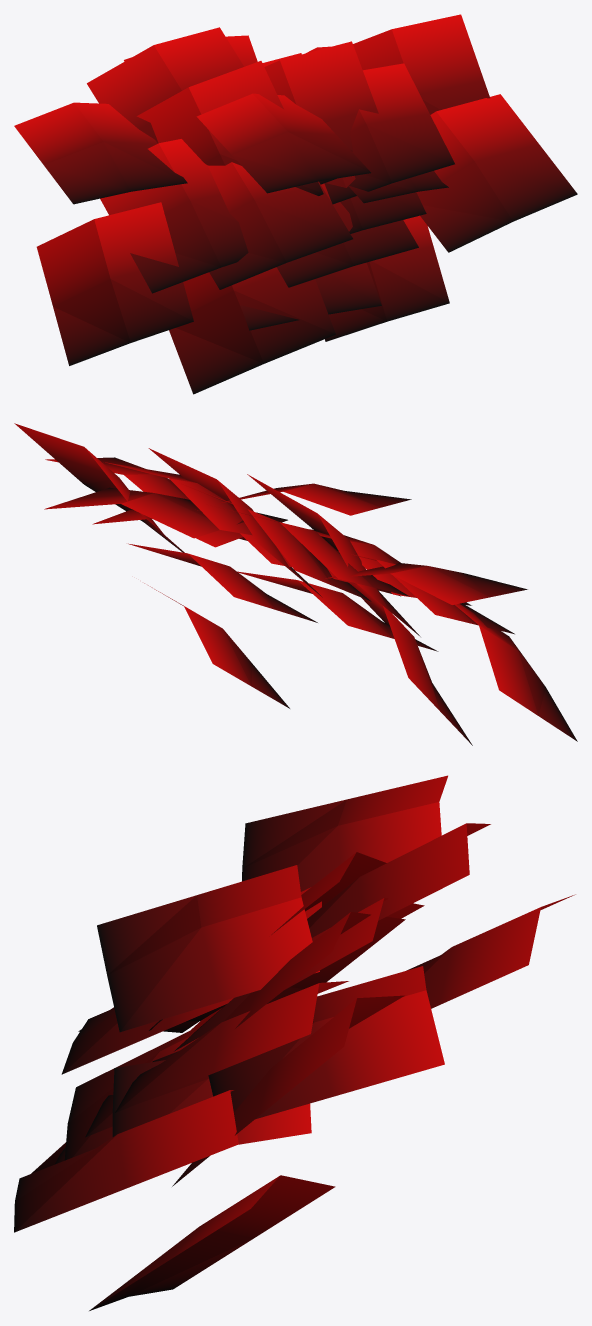
Rendered from IvyAngle02.fbx.
3 views of the same model, one above another, from view 1: azimuth 30°, elevation 25°; view 2: azimuth 150°, elevation 25°; view 3: azimuth 270°, elevation 25° (orthographic). The views are drawn at different scales.
Parts seen in each view (by area): view 1: transform46; view 2: transform46; view 3: transform46.
Part boxes in pixels (x1,y1,x2,y2): transform46: (14, 14, 577, 394); transform46: (14, 423, 577, 745); transform46: (14, 775, 575, 1310).
Size of the model in its own units: 202 by 109 by 134.
